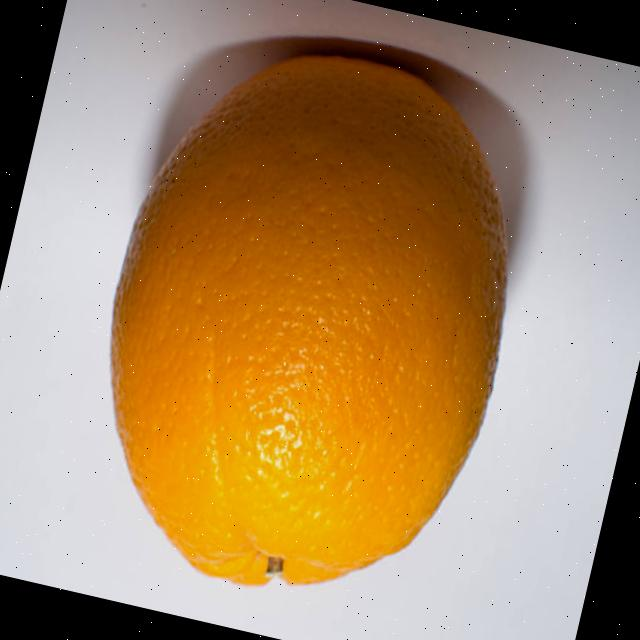Ripe: (51, 11, 561, 638)
